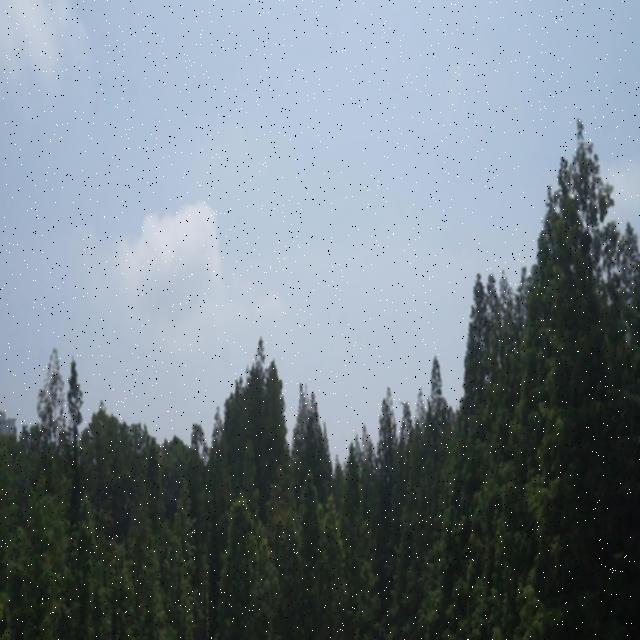UAV: (398, 400, 411, 410)
